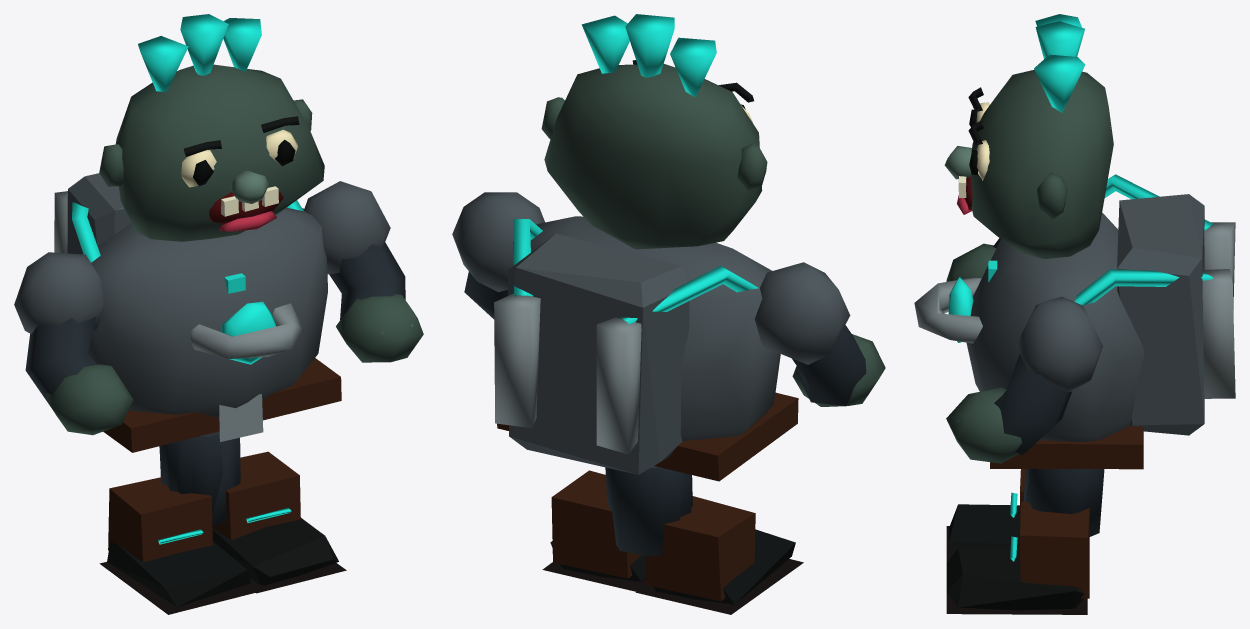
File: overlord-lod.glb
3 views of the same model, side by side, from view 1: azimuth 30°, elevation 25°; view 2: azimuth 150°, elevation 25°; view 3: azimuth 270°, elevation 25° (orthographic). The views are drawn at different scales.
Parts seen in each view (by area): view 1: Body, Head, Arms, LegL, LegR; view 2: Body, Head, Arms, LegL, LegR; view 3: Body, Head, Arms, LegR, LegL.
Part boxes in pixels (box(x1,y1,x2,y2)): Body: box(54, 173, 341, 452); Head: box(99, 14, 324, 241); Arms: box(14, 181, 423, 435); LegL: box(99, 438, 258, 614); LegR: box(159, 434, 346, 593); Body: box(494, 216, 798, 481); Head: box(541, 14, 767, 249); Arms: box(452, 192, 885, 406); LegL: box(605, 467, 803, 614); LegR: box(542, 467, 691, 591); Body: box(914, 174, 1235, 469); Head: box(944, 14, 1113, 259); Arms: box(946, 238, 1103, 463); LegR: box(946, 469, 1099, 614); LegL: box(946, 469, 1104, 562).
Bounding box in the file's own units: 0.929 × 1.27 × 0.6822.
1 material, 1 textured.
